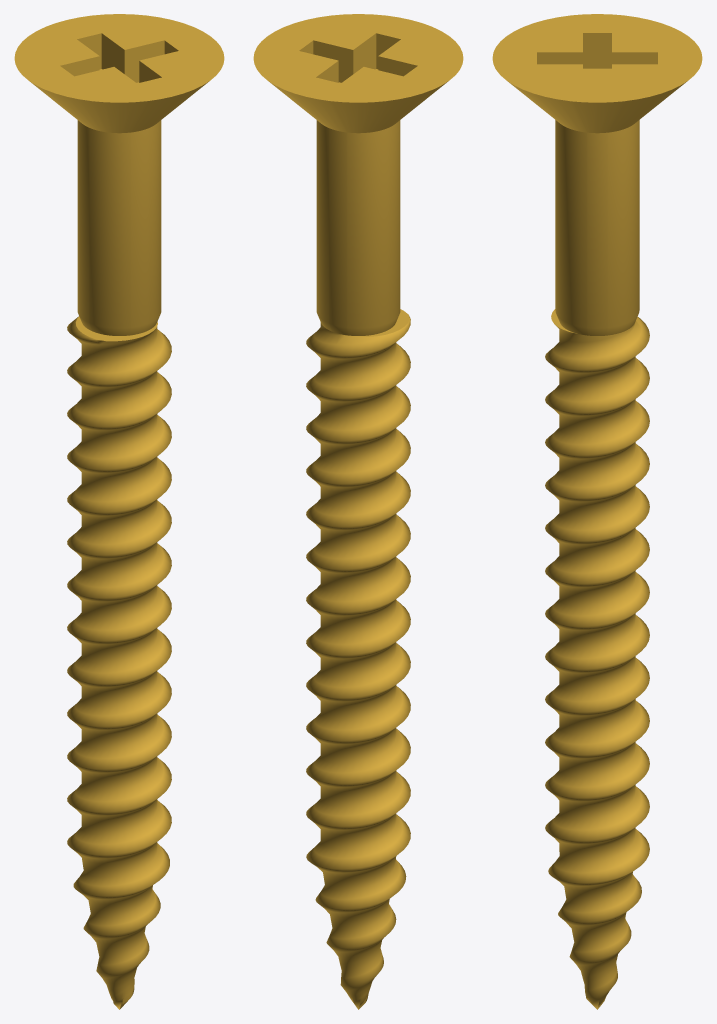
File: parafuso_4_0_x_40mm_phillips.dae
The picture shows the model from 3 angles, left to right: view 1: azimuth 30°, elevation 25°; view 2: azimuth 150°, elevation 25°; view 3: azimuth 270°, elevation 25°; orthographic projection.
Parts seen in each view (by area): view 1: Parafuso 4,0 x 40mm Phillips; view 2: Parafuso 4,0 x 40mm Phillips; view 3: Parafuso 4,0 x 40mm Phillips.
Boxes of the visible parts, bbox=[...] form: Parafuso 4,0 x 40mm Phillips: bbox=[14, 14, 224, 1009]; Parafuso 4,0 x 40mm Phillips: bbox=[253, 14, 463, 1009]; Parafuso 4,0 x 40mm Phillips: bbox=[492, 14, 702, 1009].
Bounding box in the file's own units: 8 × 8 × 40.
